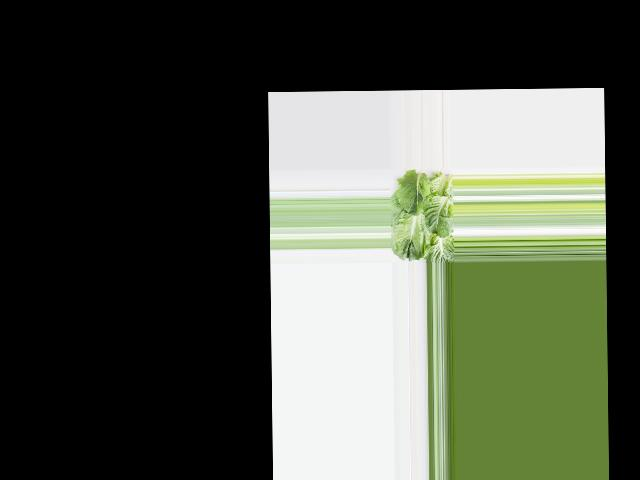lettuce: (392, 171, 455, 261)
